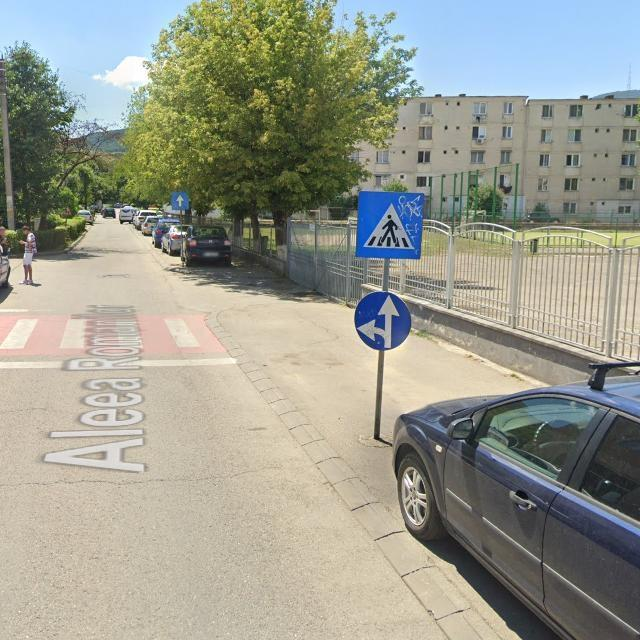info_crosswalk: (355, 191, 424, 259)
